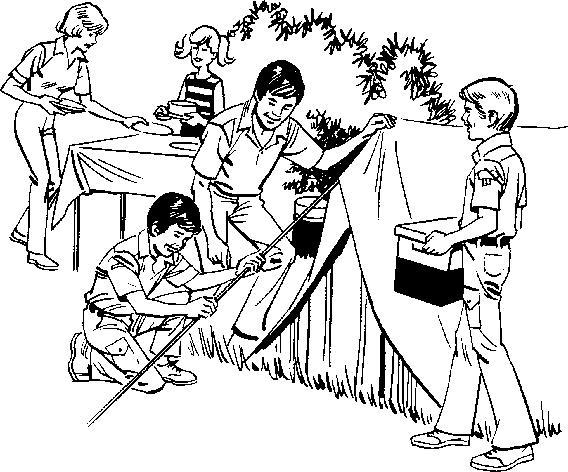diningtable: (66, 130, 207, 272)
person: (193, 54, 399, 357), (412, 74, 532, 469), (75, 192, 267, 397), (1, 1, 145, 270), (150, 23, 233, 137)
